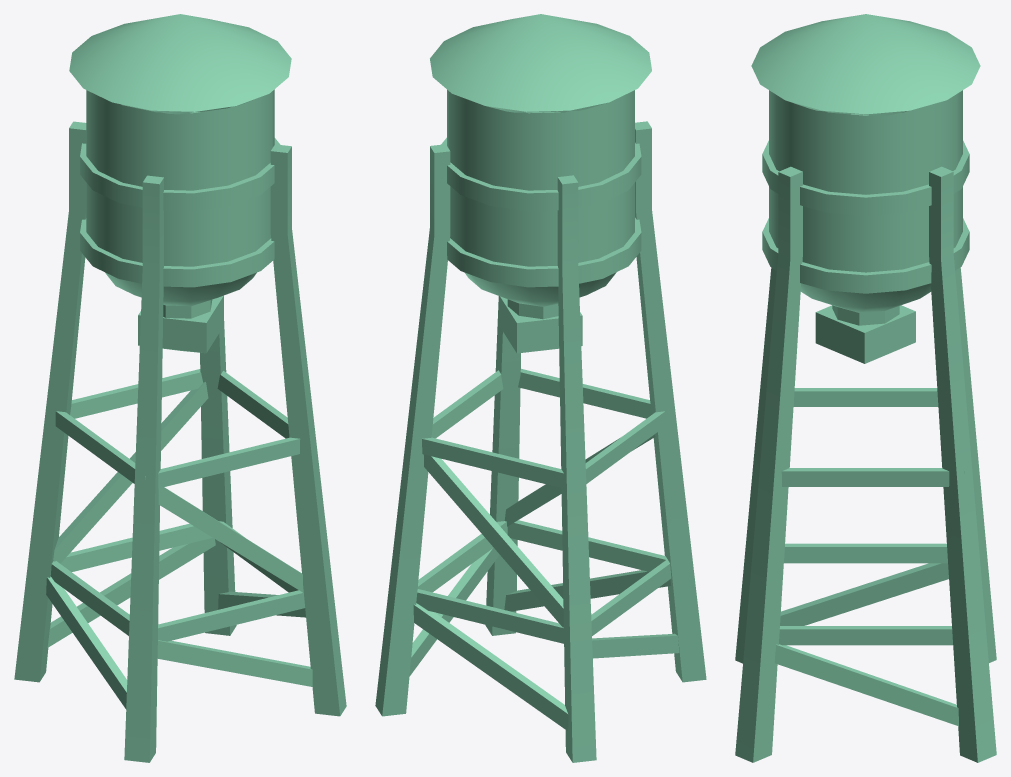
Rendered from Reservoir_A.fbx.
The picture shows the model from 3 angles, left to right: view 1: azimuth 30°, elevation 25°; view 2: azimuth 150°, elevation 25°; view 3: azimuth 270°, elevation 25°; orthographic projection. The views are drawn at different scales.
Parts seen in each view (by area): view 1: Reservoir_A; view 2: Reservoir_A; view 3: Reservoir_A.
Boxes of the visible parts, x1,y1,x2,y2 form: Reservoir_A: (14, 14, 346, 762); Reservoir_A: (375, 14, 706, 762); Reservoir_A: (735, 14, 996, 762).
Bounding box in the file's own units: 413 × 1208 × 413.
